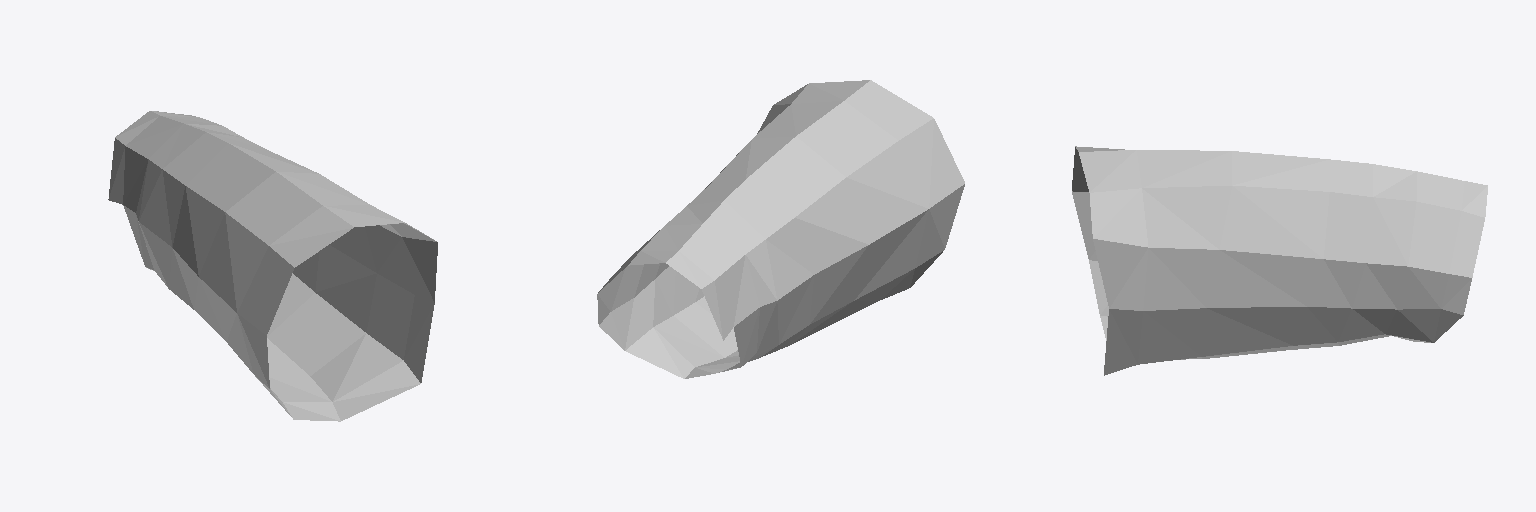
Rendered from l_lupperleg.obj.
3 renders of one model, left to right at view 1: azimuth 30°, elevation 25°; view 2: azimuth 150°, elevation 25°; view 3: azimuth 270°, elevation 25°, orthographic.
Visible parts, largest first — view 1: zoey_color_bmp_010_zoey_color_bmp.010; view 2: zoey_color_bmp_010_zoey_color_bmp.010; view 3: zoey_color_bmp_010_zoey_color_bmp.010.
Boxes of the visible parts, box(x1,y1,x2,y2) form: zoey_color_bmp_010_zoey_color_bmp.010: box(108, 111, 437, 421); zoey_color_bmp_010_zoey_color_bmp.010: box(597, 80, 964, 378); zoey_color_bmp_010_zoey_color_bmp.010: box(1072, 146, 1487, 375).
Bounding box in the file's own units: 0.1303 × 0.1387 × 0.2519.